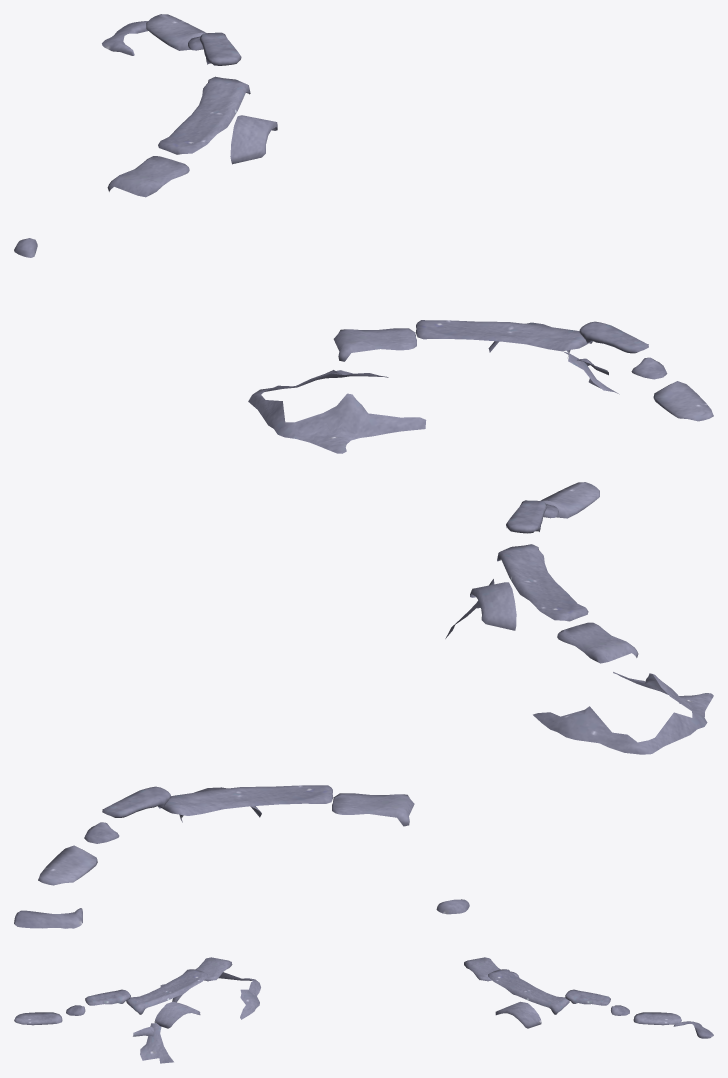
Rendered from pref_sm_beach_winter_snow05_lv2.fbx.
The picture shows the model from 3 angles, top to bottom: view 1: azimuth 30°, elevation 25°; view 2: azimuth 150°, elevation 25°; view 3: azimuth 270°, elevation 25°; orthographic projection. The views are drawn at different scales.
Parts seen in each view (by area): view 1: pref_sm_beach_winter_snow05_lv2; view 2: pref_sm_beach_winter_snow05_lv2; view 3: pref_sm_beach_winter_snow05_lv2.
Part boxes in pixels (left/top/right/bottom): pref_sm_beach_winter_snow05_lv2: left=14, top=14, right=713, bottom=453; pref_sm_beach_winter_snow05_lv2: left=14, top=482, right=713, bottom=928; pref_sm_beach_winter_snow05_lv2: left=14, top=957, right=713, bottom=1063.
Size of the model in its own units: 7.6 by 2.31 by 25.01.
